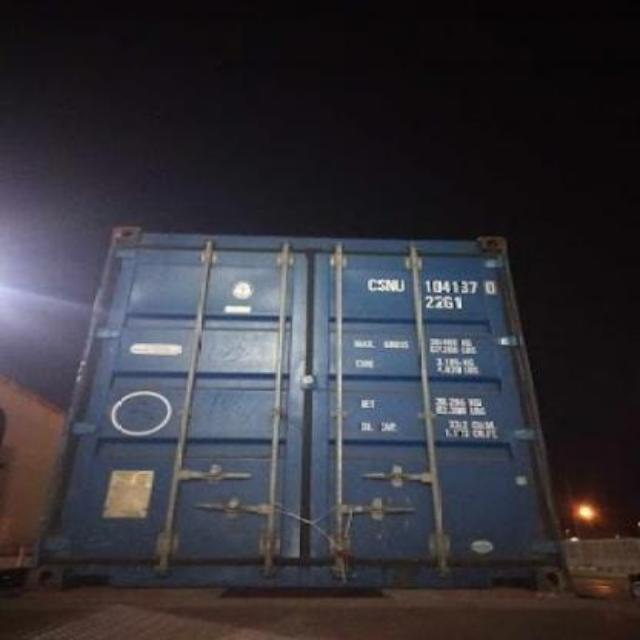0: (486, 278, 496, 298), (432, 278, 442, 294)
1: (424, 278, 434, 292), (452, 279, 460, 295)
3: (460, 278, 470, 296)
4: (442, 278, 452, 294)
7: (468, 279, 480, 295)
C: (366, 278, 378, 292)
M: (386, 278, 396, 294)
S: (378, 278, 386, 292)
U: (394, 278, 406, 292)
